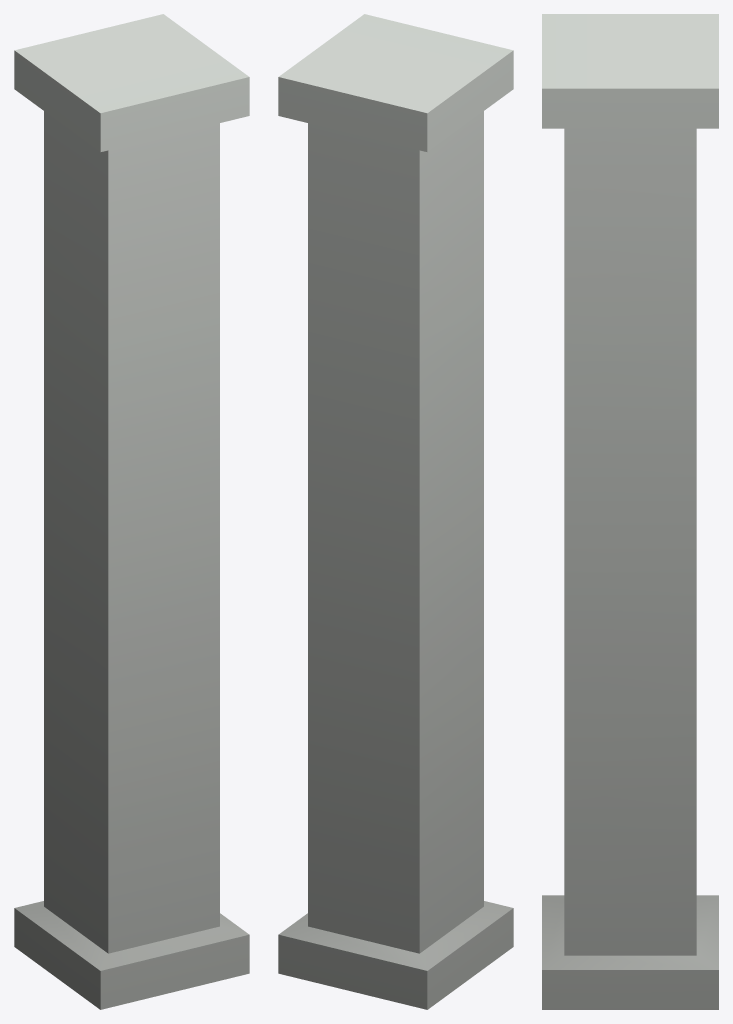
Rendered from Pillar_1x3.fbx.
The picture shows the model from 3 angles, left to right: view 1: azimuth 30°, elevation 25°; view 2: azimuth 150°, elevation 25°; view 3: azimuth 270°, elevation 25°; orthographic projection. The views are drawn at different scales.
Parts seen in each view (by area): view 1: Pillar_1x3; view 2: Pillar_1x3; view 3: Pillar_1x3.
Boxes of the visible parts, left/top/right/bottom form: Pillar_1x3: left=14, top=14, right=249, bottom=1009; Pillar_1x3: left=278, top=14, right=513, bottom=1009; Pillar_1x3: left=542, top=14, right=718, bottom=1009.
Size of the model in its own units: 50 by 287 by 50.
